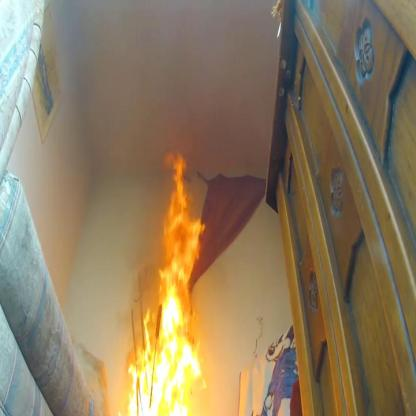fire: (123, 147, 210, 416)
